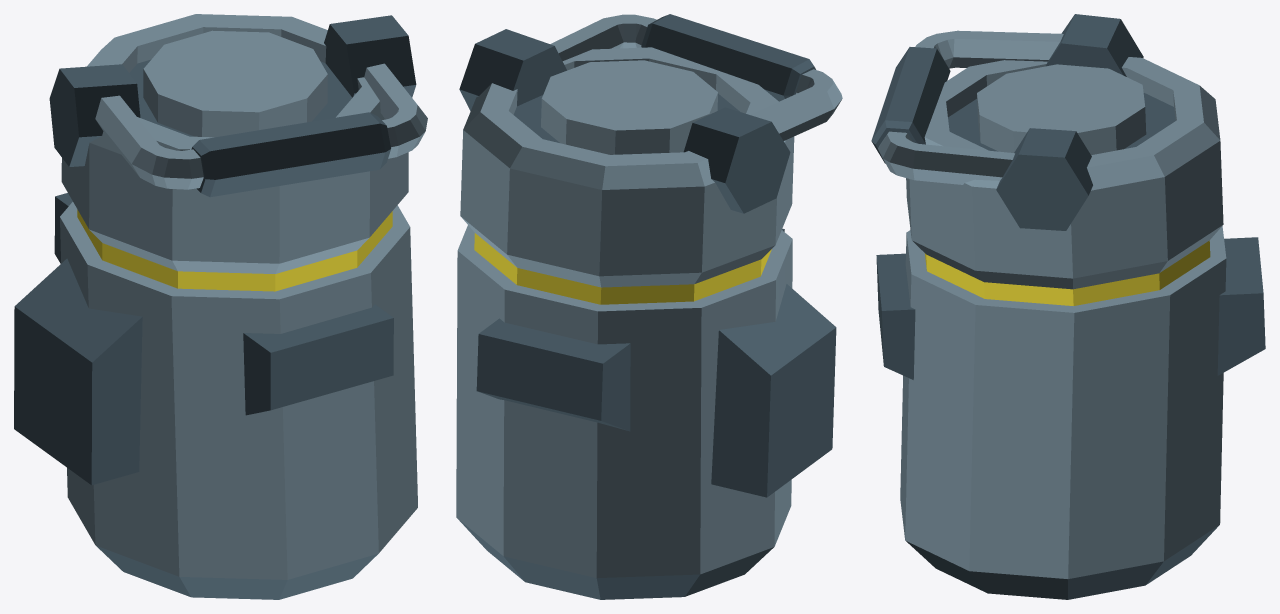
The picture shows the model from 3 angles, left to right: view 1: azimuth 30°, elevation 25°; view 2: azimuth 150°, elevation 25°; view 3: azimuth 270°, elevation 25°; orthographic projection. The views are drawn at different scales.
Visible parts, largest first — view 1: group965971404; view 2: group965971404; view 3: group965971404.
Boxes of the visible parts, x1=… form: group965971404: x1=14, y1=14, x2=427, y2=599; group965971404: x1=456, y1=14, x2=842, y2=599; group965971404: x1=871, y1=14, x2=1265, y2=599.
Bounding box in the file's own units: 0.2635 × 0.3565 × 0.2755.
